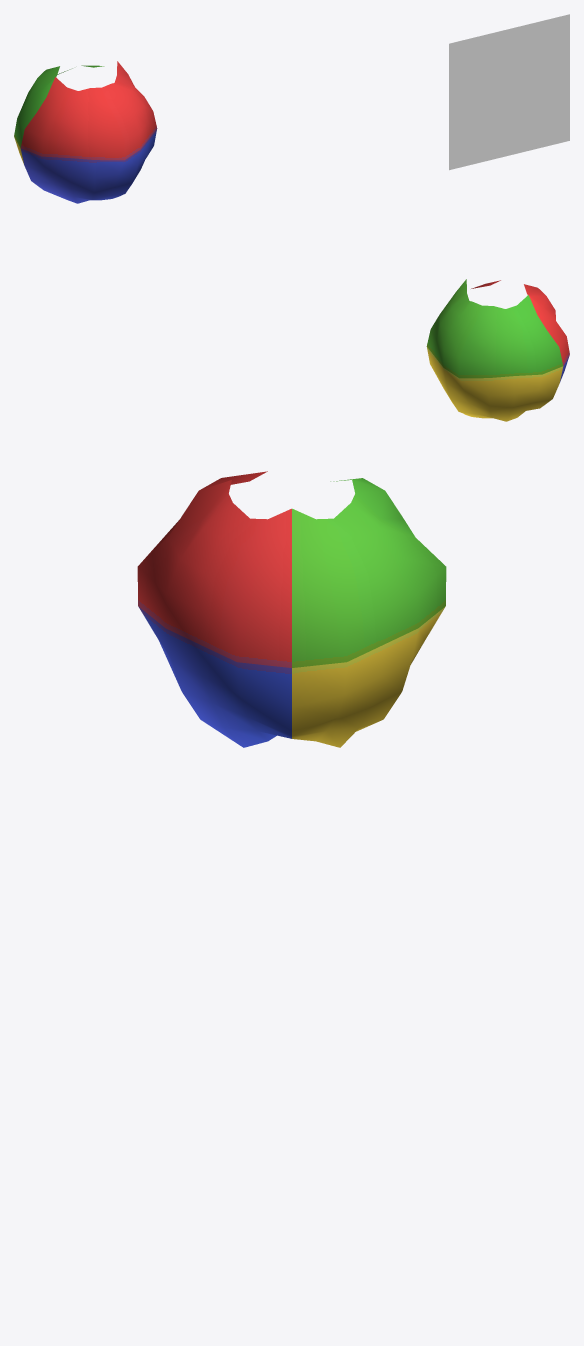
Rendered from soup.gltf.
3 renders of one model, top to bottom at view 1: azimuth 30°, elevation 25°; view 2: azimuth 150°, elevation 25°; view 3: azimuth 270°, elevation 25°, orthographic. The views are drawn at different scales.
Visible parts, largest first — view 1: Quads, Soup; view 2: Soup; view 3: Soup.
Part boxes in pixels (x1,y1,x2,y2): Quads: [449, 14, 569, 170]; Soup: [14, 61, 157, 203]; Soup: [426, 279, 569, 421]; Soup: [137, 471, 446, 747].
Size of the model in its own units: 4.54 by 1.51 by 1.1.
Materials: 1 (1 with a texture image).
